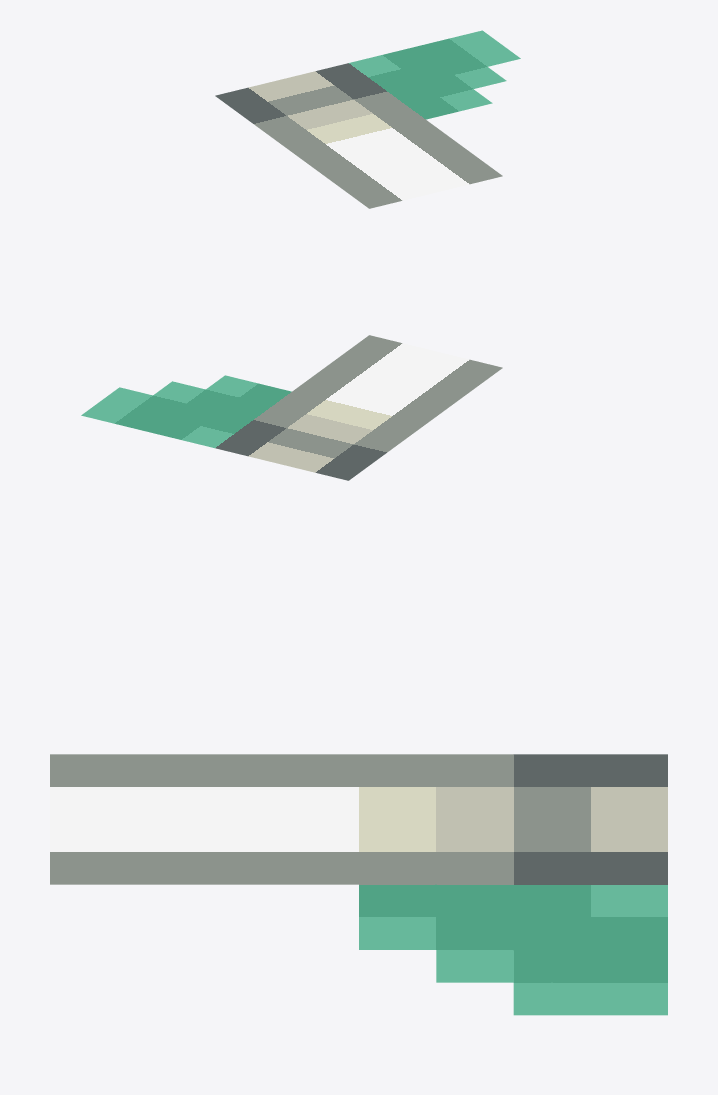
3 renders of one model, top to bottom at view 1: azimuth 30°, elevation 25°; view 2: azimuth 150°, elevation 25°; view 3: azimuth 270°, elevation 25°, orthographic. The views are drawn at different scales.
Size of the model in its own units: 1 by 0 by 0.5.
1 material, 1 textured.
